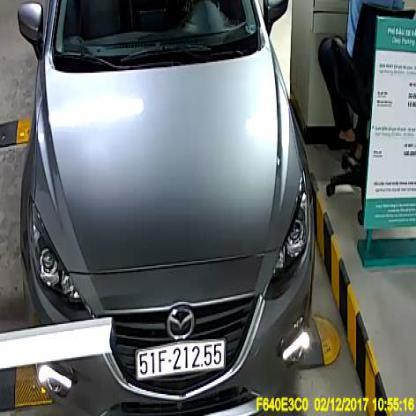biensoxe: (136, 340, 224, 380)
